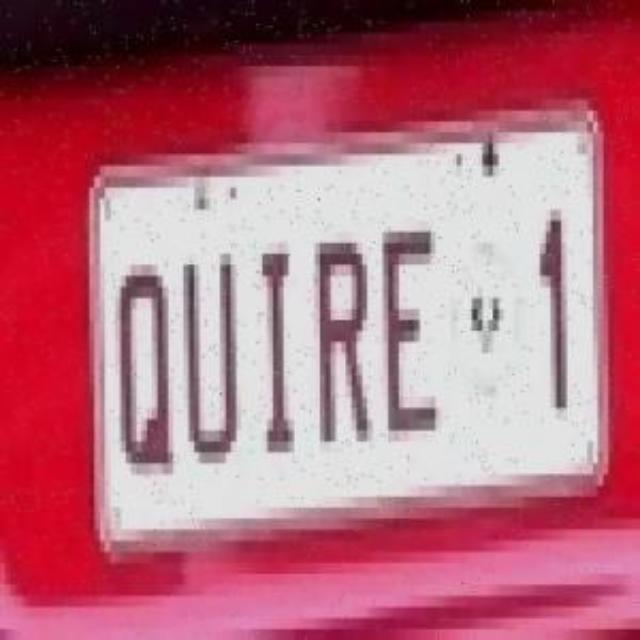License Plate: (80, 150, 620, 548)
